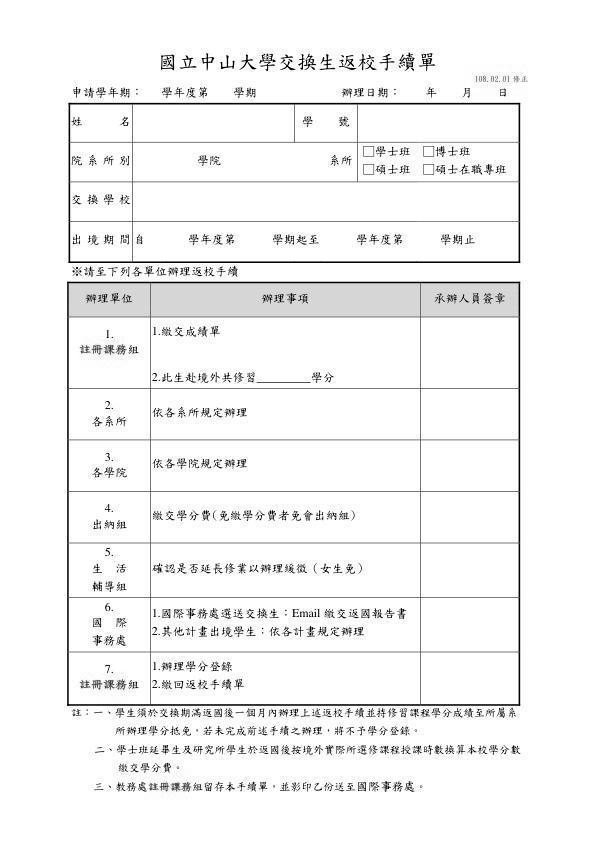table: (64, 280, 526, 706), (63, 101, 523, 265)
text: (70, 707, 528, 794), (156, 50, 440, 74), (68, 82, 260, 100), (338, 83, 510, 100), (70, 264, 242, 278), (471, 72, 532, 86)
